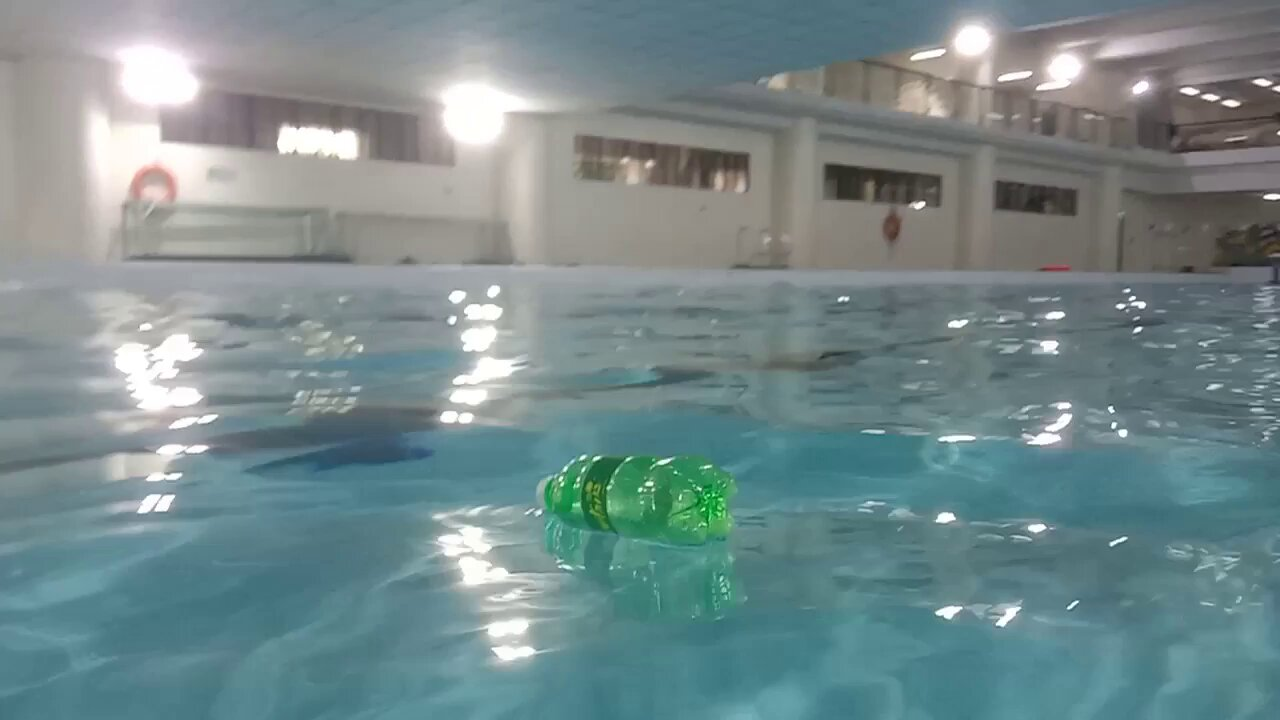plastic_bottle: (536, 455, 738, 546)
